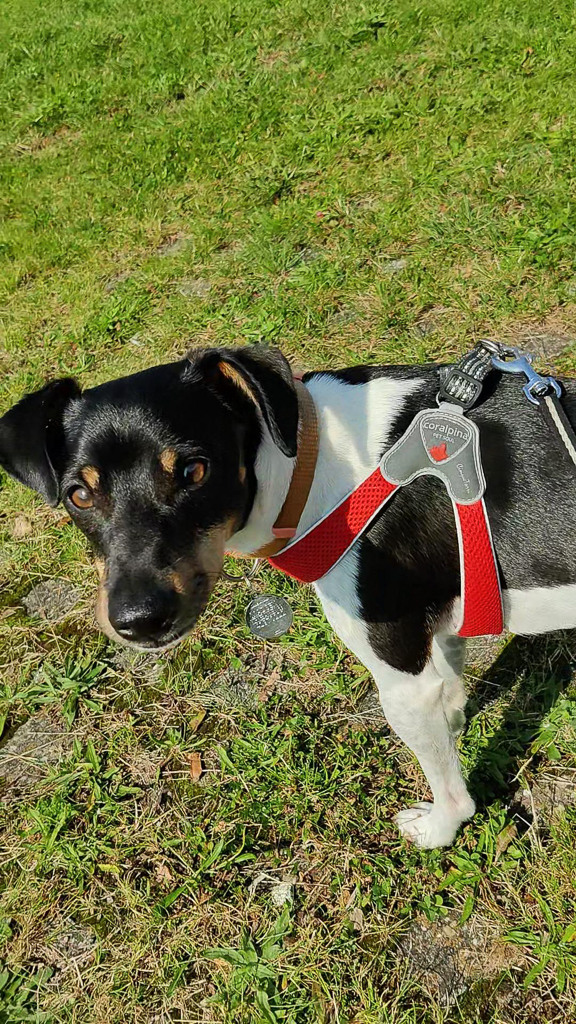Dog: (0, 296, 576, 878)
